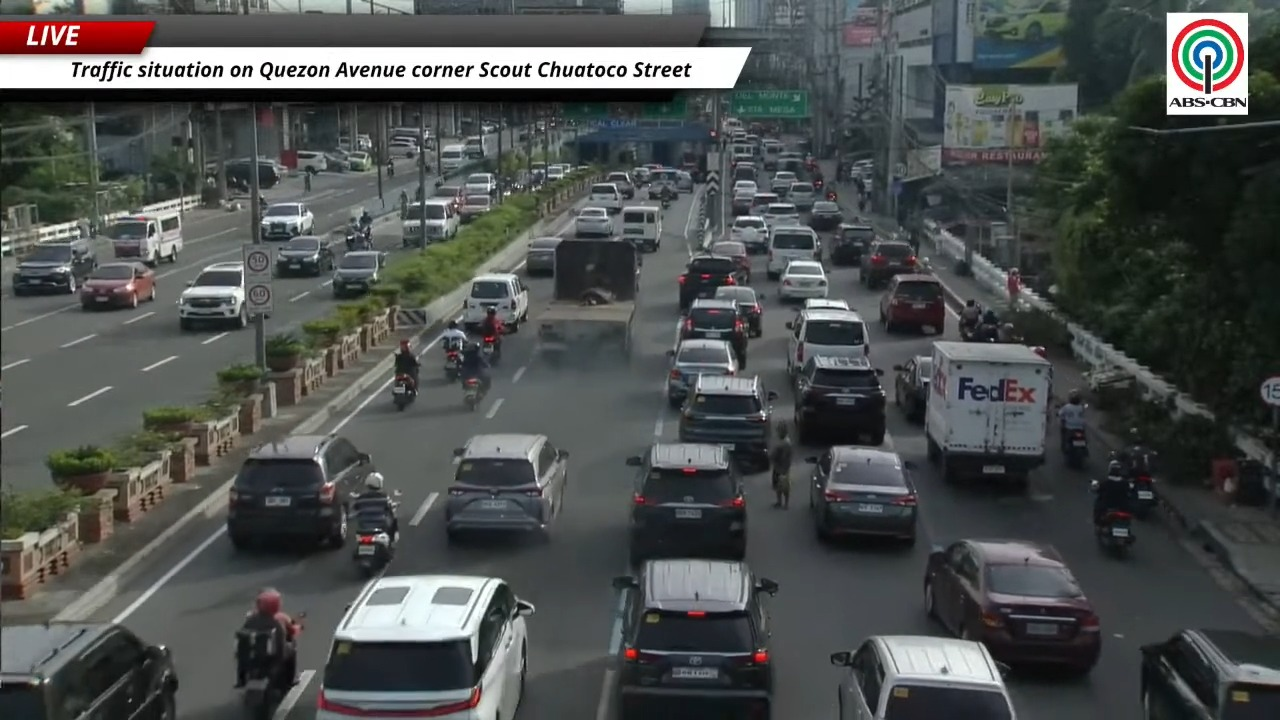car: (313, 575, 534, 719), (613, 559, 778, 719), (923, 539, 1101, 673), (0, 622, 179, 719), (226, 435, 374, 549), (830, 635, 1013, 719), (627, 443, 746, 566), (444, 433, 567, 540), (1141, 629, 1279, 719), (806, 445, 917, 543), (678, 376, 777, 469), (794, 355, 886, 445), (786, 307, 868, 374), (666, 339, 737, 408), (12, 238, 97, 295), (178, 262, 248, 330), (677, 298, 746, 360), (462, 272, 528, 332), (880, 273, 946, 333), (978, 0, 1066, 43), (80, 262, 155, 309), (678, 254, 738, 311), (766, 217, 821, 279), (859, 239, 918, 288), (401, 198, 460, 247), (332, 250, 386, 298), (893, 356, 932, 421), (275, 235, 335, 276), (714, 286, 762, 337), (778, 260, 828, 300), (260, 202, 314, 239), (829, 223, 875, 265), (708, 240, 751, 283), (729, 215, 767, 253), (525, 236, 562, 274), (574, 207, 614, 237), (587, 182, 623, 214), (808, 200, 843, 231), (647, 167, 680, 199), (761, 202, 800, 227), (459, 194, 492, 223), (786, 182, 817, 211), (797, 299, 849, 315), (432, 184, 465, 209), (463, 173, 497, 197), (604, 172, 634, 199), (749, 192, 780, 216), (296, 150, 328, 173), (679, 159, 704, 188), (387, 137, 419, 158), (770, 172, 797, 196), (731, 188, 754, 216), (324, 148, 349, 173), (731, 160, 758, 182), (347, 151, 373, 172), (630, 166, 650, 186), (676, 170, 694, 191), (546, 164, 566, 182), (733, 180, 757, 194)
motorcycle: (236, 629, 290, 719), (1125, 447, 1158, 519), (353, 523, 397, 577), (1094, 510, 1135, 556), (355, 530, 393, 578), (1095, 512, 1135, 556), (1130, 471, 1157, 519), (1063, 429, 1087, 469), (393, 374, 416, 410), (463, 377, 482, 410), (481, 336, 500, 364), (444, 349, 460, 382), (354, 225, 373, 250), (959, 321, 979, 341), (345, 226, 359, 251), (661, 196, 671, 210), (385, 162, 394, 177)
truck: (924, 341, 1051, 486), (536, 239, 640, 363)
